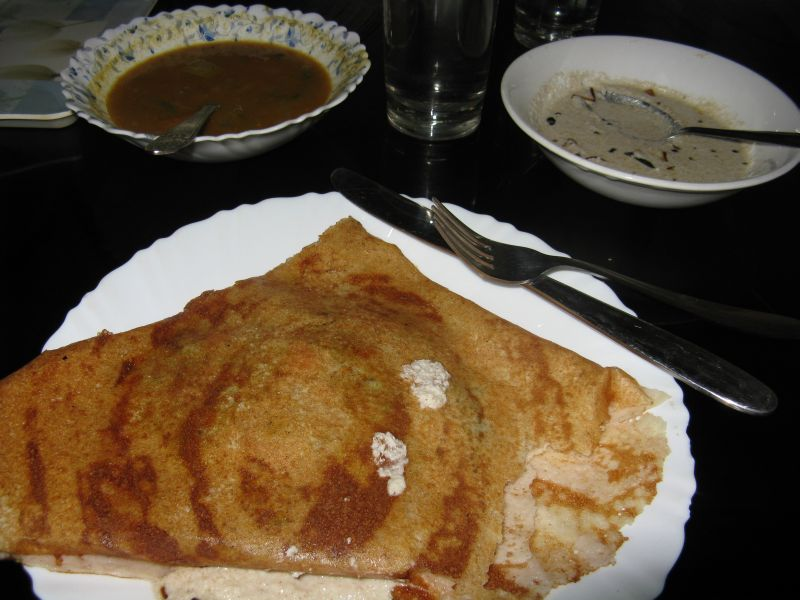dosa: (5, 217, 678, 600)
